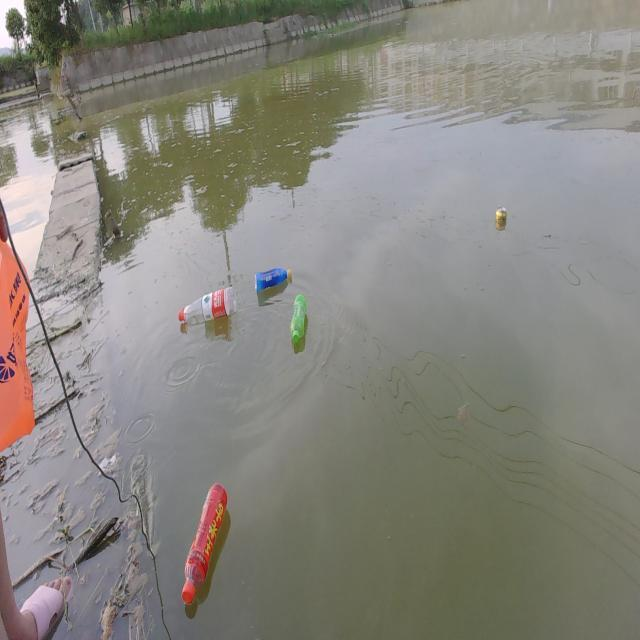garbage: (181, 481, 227, 603), (178, 285, 236, 327), (253, 265, 291, 305), (290, 293, 308, 345)
